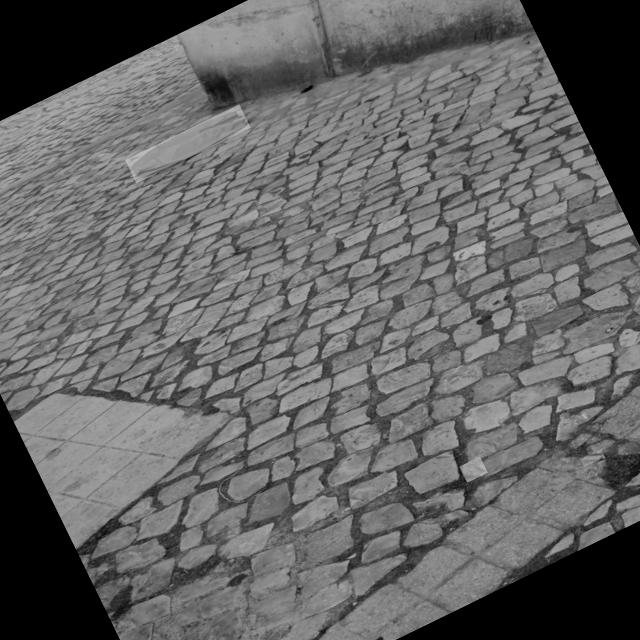Cigarette: (460, 465, 486, 476), (581, 455, 604, 462)
Single-use carrier bag: (130, 110, 246, 177)
